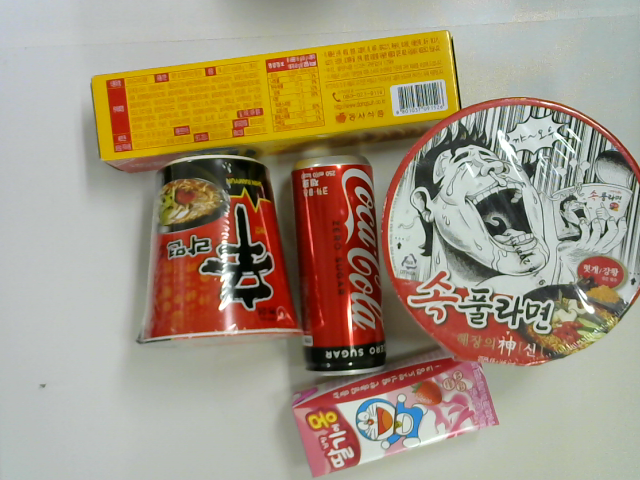Coca_Cola_Zero_Can_250ml: (288, 154, 388, 380)
Hejangpul: (379, 97, 640, 369)
Ritz_Sand_Cracker: (87, 31, 464, 176)
Sinramen_small: (138, 150, 310, 348)
Strawberry_E_Mong: (289, 344, 501, 480)
